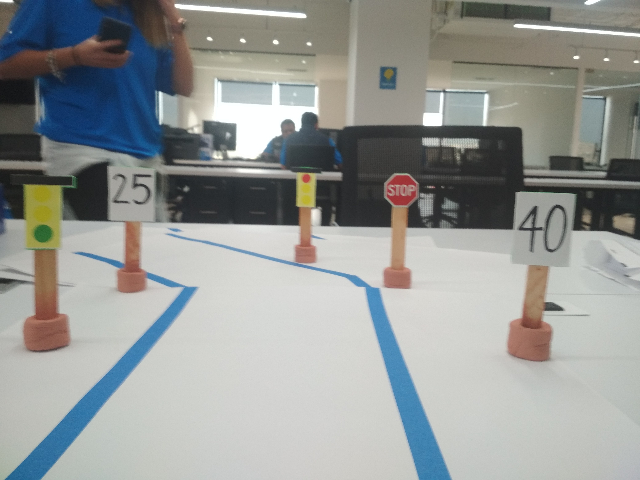Green Traffic Light: (6, 170, 72, 252)
Red Traffic Light: (287, 164, 324, 211)
Speed Limit 25: (103, 161, 162, 221)
Speed Limit 40: (508, 190, 578, 264)
Stop Sign: (380, 172, 421, 207)
